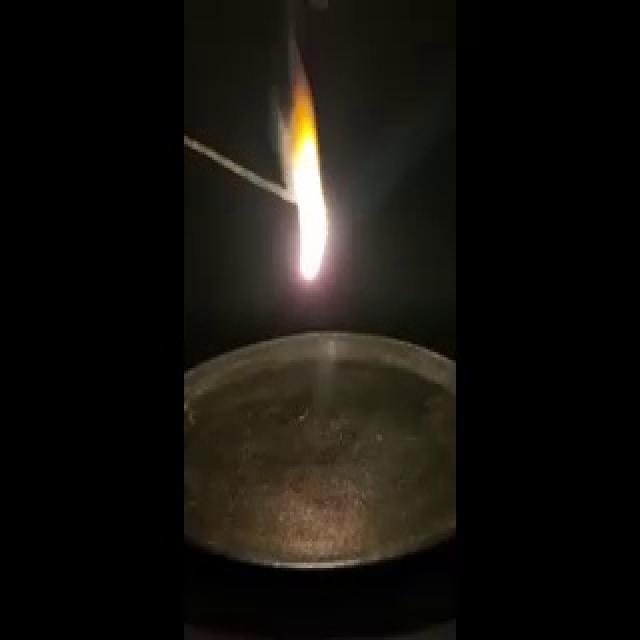fire: (272, 37, 352, 296)
